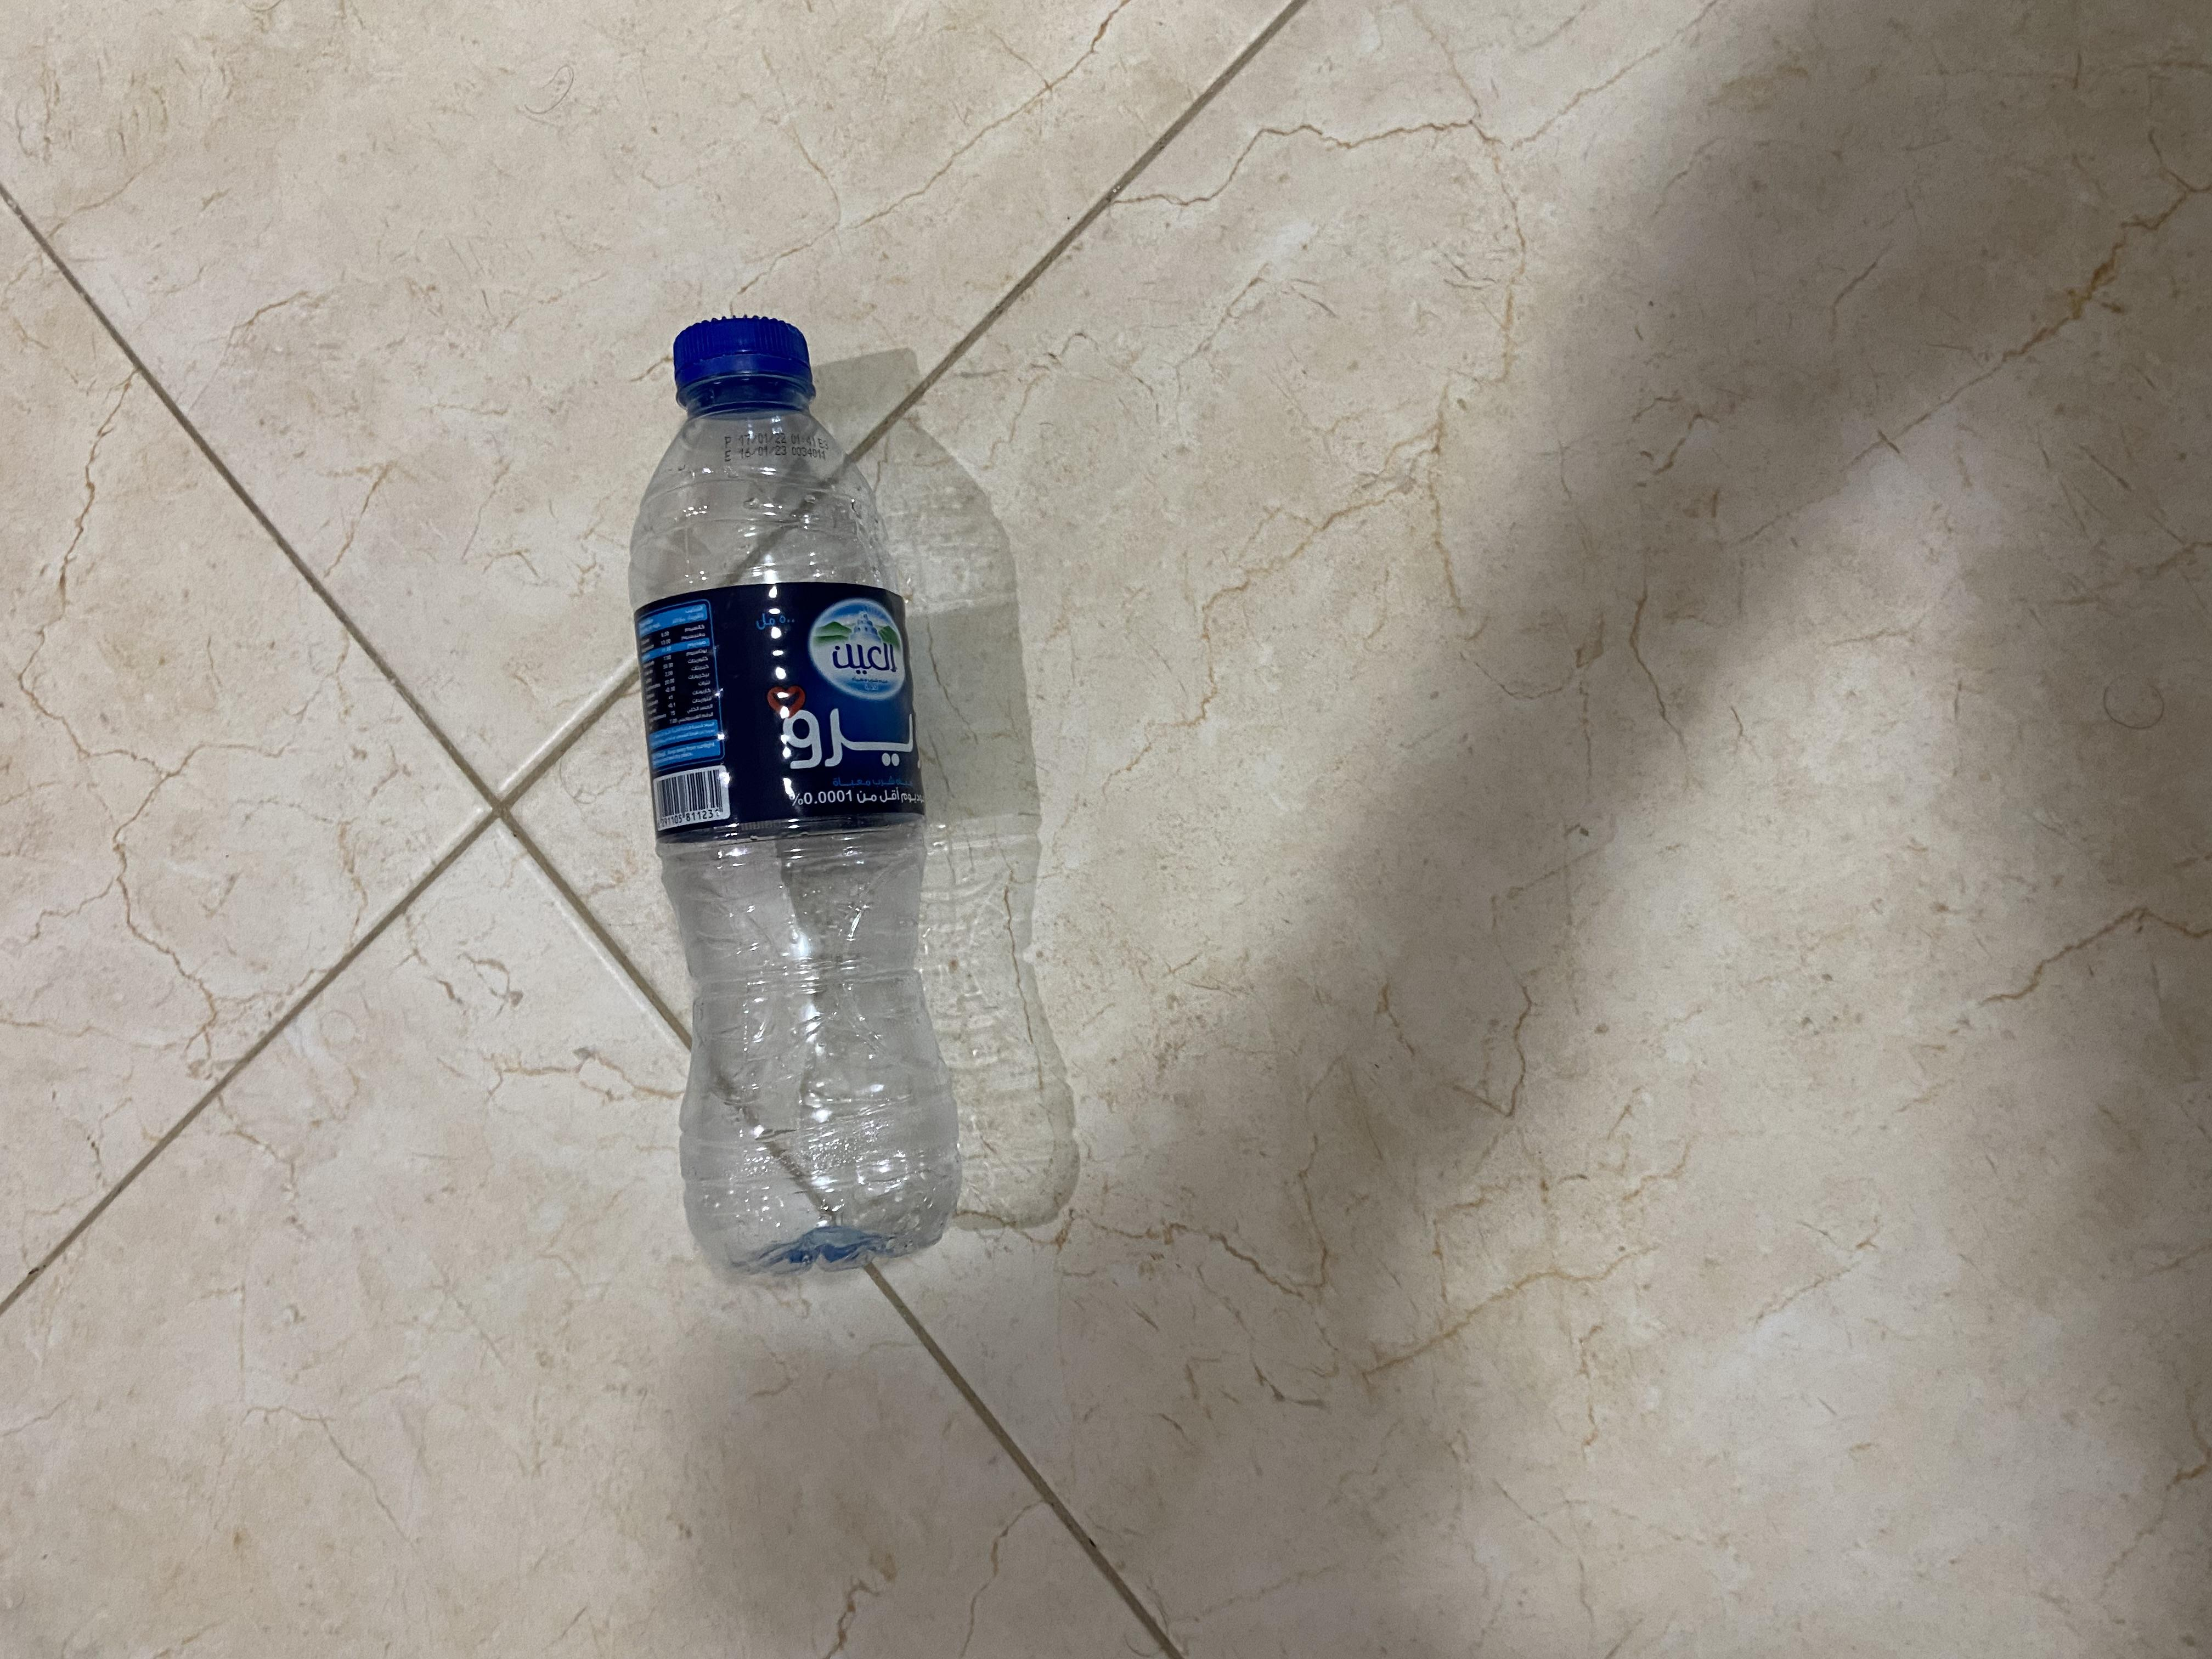bottle: (495, 465, 1832, 760)
